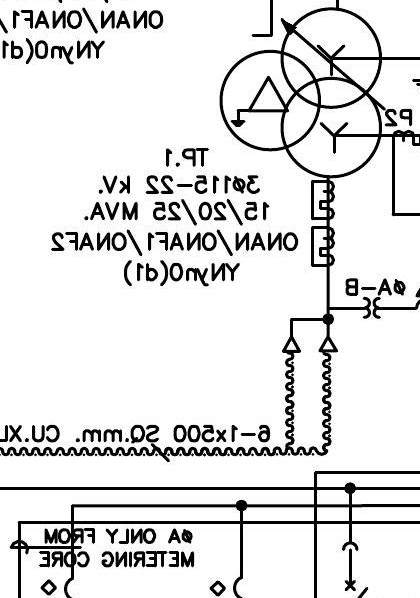11522_tx_ynyn0d1: (218, 6, 383, 180)
terminator_double: (281, 317, 339, 353)
